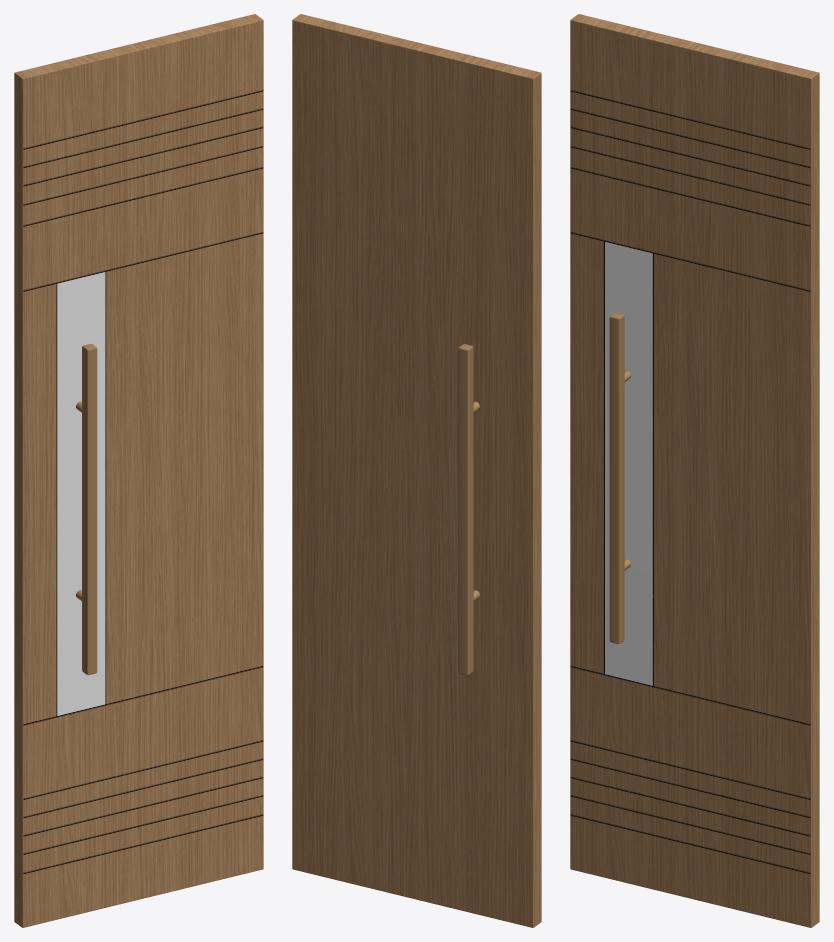
The model's file is VE_6_full1_door.glb.
3 renders of one model, left to right at view 1: azimuth 30°, elevation 25°; view 2: azimuth 150°, elevation 25°; view 3: azimuth 330°, elevation 25°, orthographic.
Visible parts, largest first — view 1: V_E_6__1_door_; view 2: V_E_6__1_door_; view 3: V_E_6__1_door_.
Part boxes in pixels (bbox=[...]): V_E_6__1_door_: bbox=[14, 14, 263, 927]; V_E_6__1_door_: bbox=[292, 14, 541, 927]; V_E_6__1_door_: bbox=[570, 14, 819, 927].
Bounding box in the file's own units: 0.523 × 1.76 × 0.131.
Materials: 1 (1 with a texture image).
